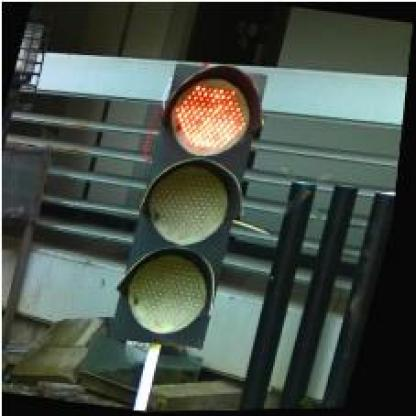red: (108, 59, 277, 352)
